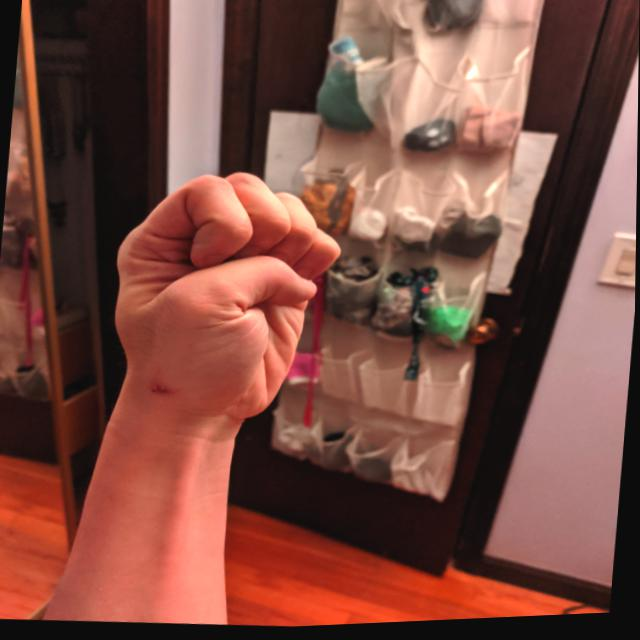E: (96, 157, 356, 441)
